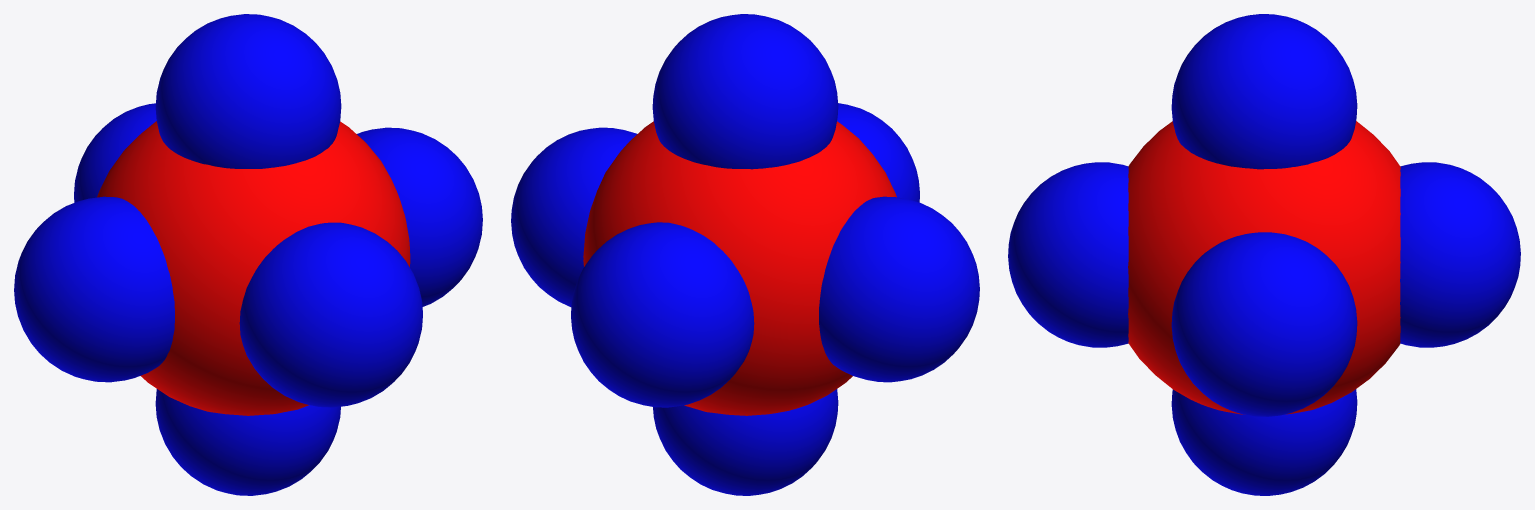
File: octahedral_space.glb
3 views of the same model, side by side, from view 1: azimuth 30°, elevation 25°; view 2: azimuth 150°, elevation 25°; view 3: azimuth 270°, elevation 25° (orthographic).
Parts seen in each view (by area): view 1: octahedral_space; view 2: octahedral_space; view 3: octahedral_space.
Boxes of the visible parts, bbox=[...] form: octahedral_space: bbox=[14, 14, 482, 495]; octahedral_space: bbox=[511, 14, 979, 495]; octahedral_space: bbox=[1008, 14, 1520, 495].
Size of the model in its own units: 4.03 by 4.03 by 4.03.
